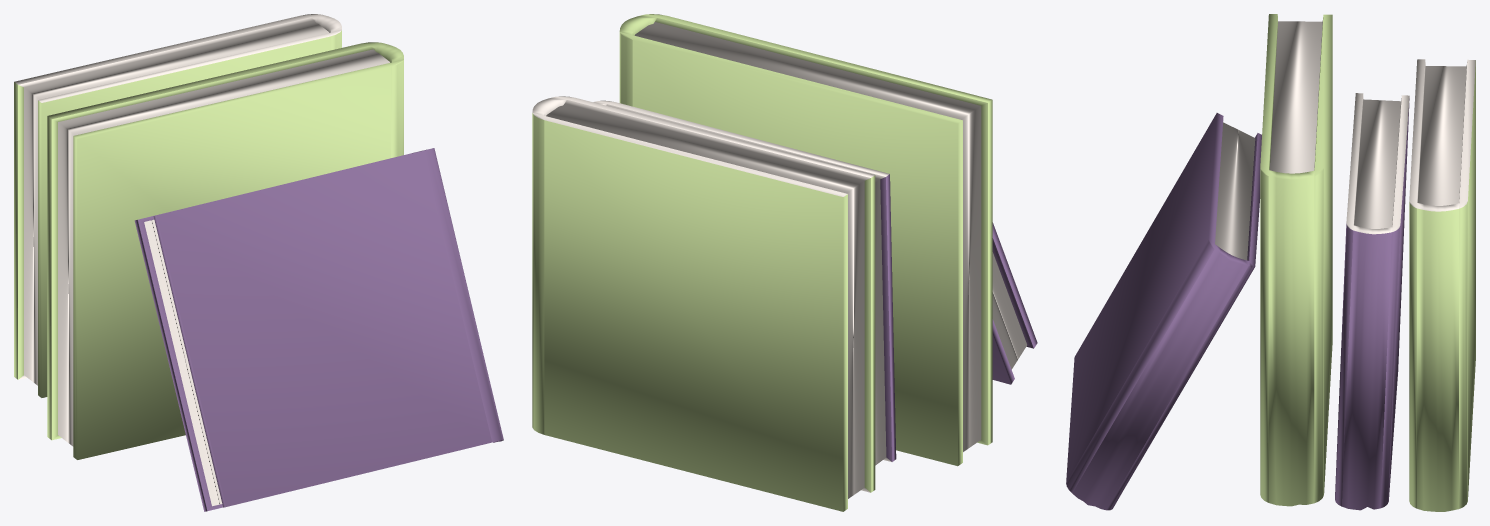
The model's file is books.fbx.
3 views of the same model, side by side, from view 1: azimuth 30°, elevation 25°; view 2: azimuth 150°, elevation 25°; view 3: azimuth 270°, elevation 25° (orthographic). The views are drawn at different scales.
Parts seen in each view (by area): view 1: Books; view 2: Books; view 3: Books.
Boxes of the visible parts, left/top/right/bottom form: Books: left=14, top=14, right=503, bottom=511; Books: left=532, top=14, right=1037, bottom=511; Books: left=1066, top=14, right=1475, bottom=511.
Size of the model in its own units: 143 by 133 by 145.
